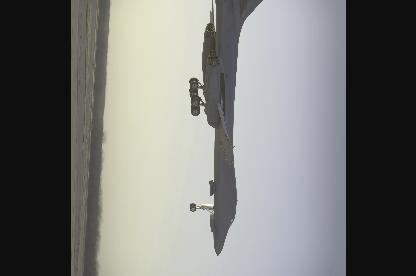AV8B: (188, 0, 276, 254)
